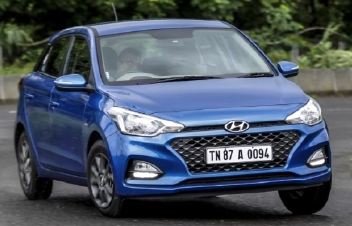car: (12, 18, 333, 217)
